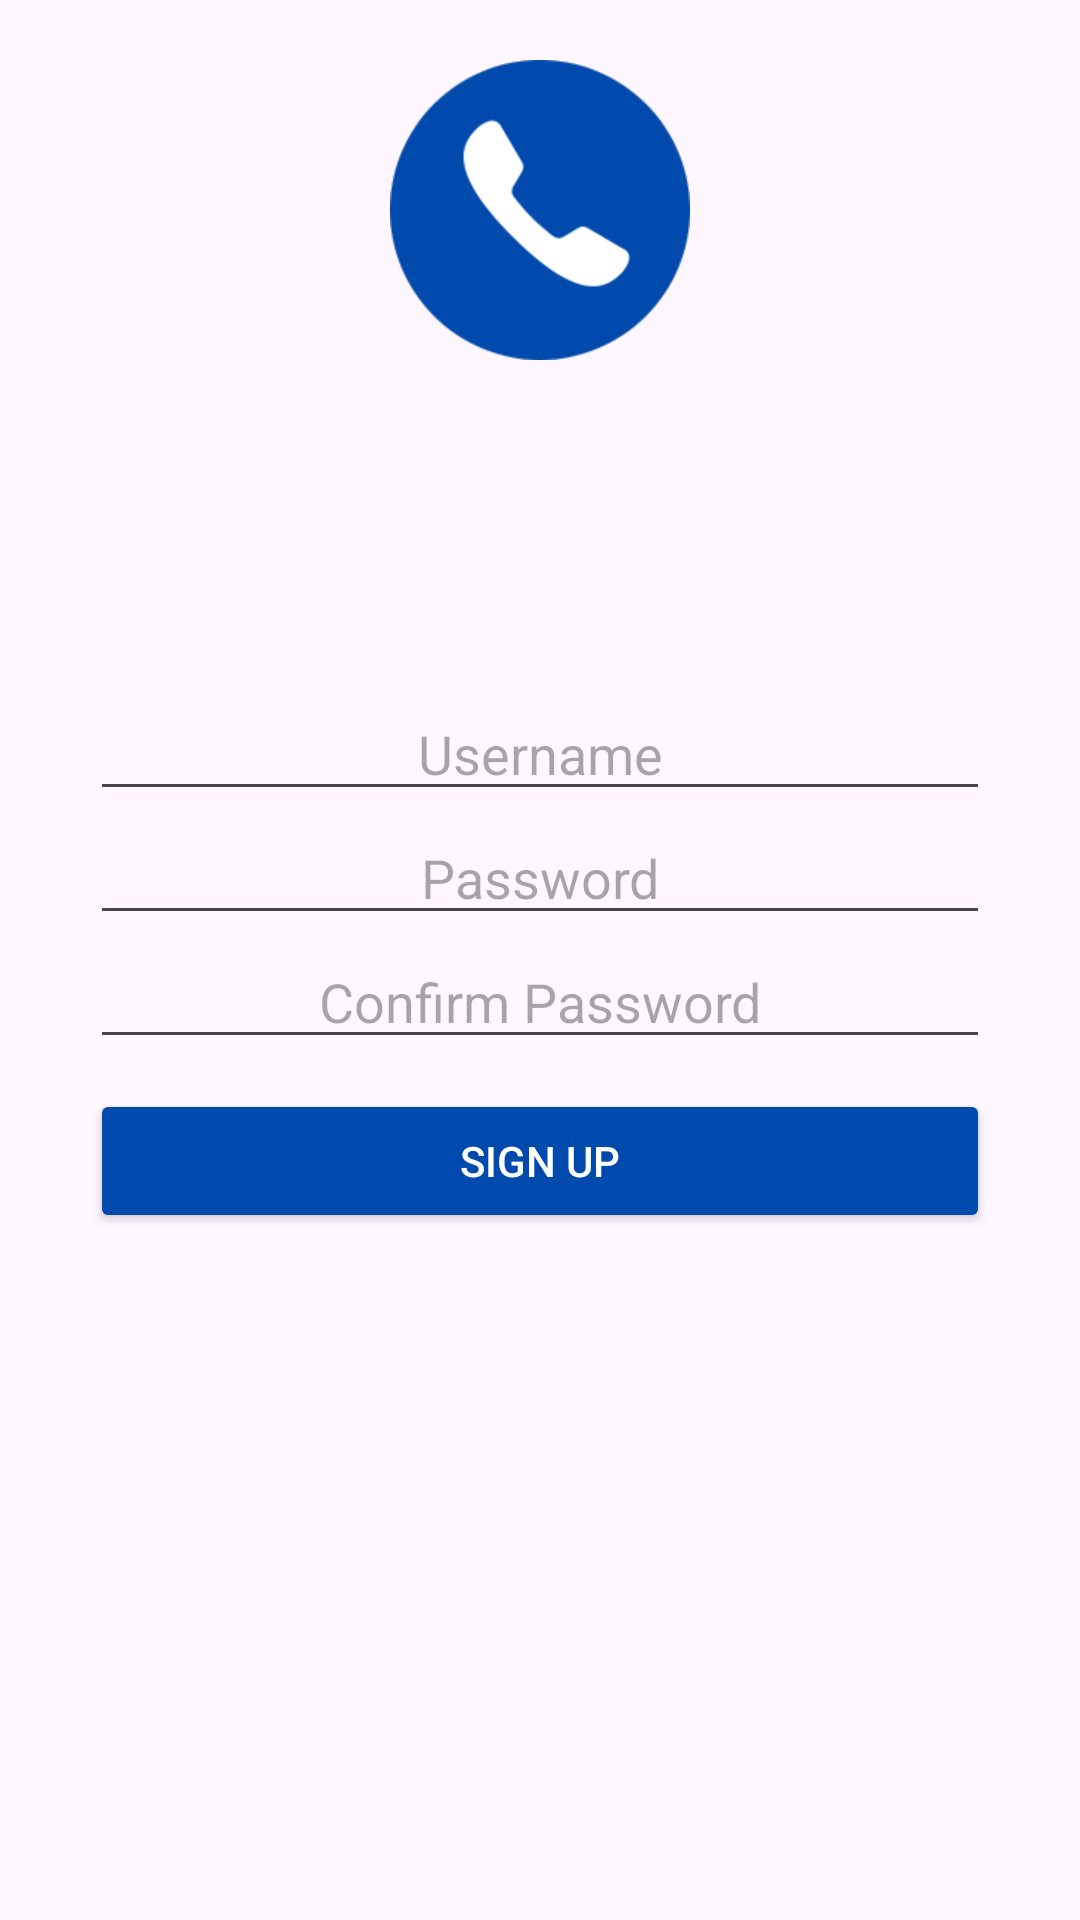

Named icons in this screenshot (1080×1920) and their centers, [x,y]:
phone: [540,210]
